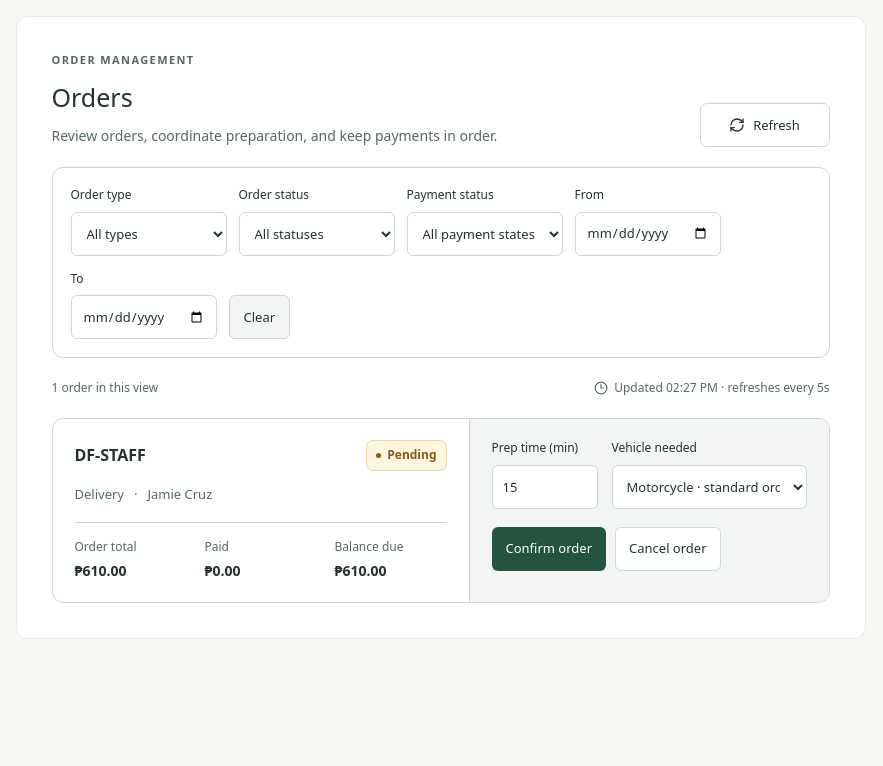
Test case: rejects invalid preparation times and sends valid preparation choices with a status update
This screenshot has width=883, height=766.
Replace the text in the number field named "Prep time for DF-STAFF" with "0" at (544, 487), box [492,465,598,509]
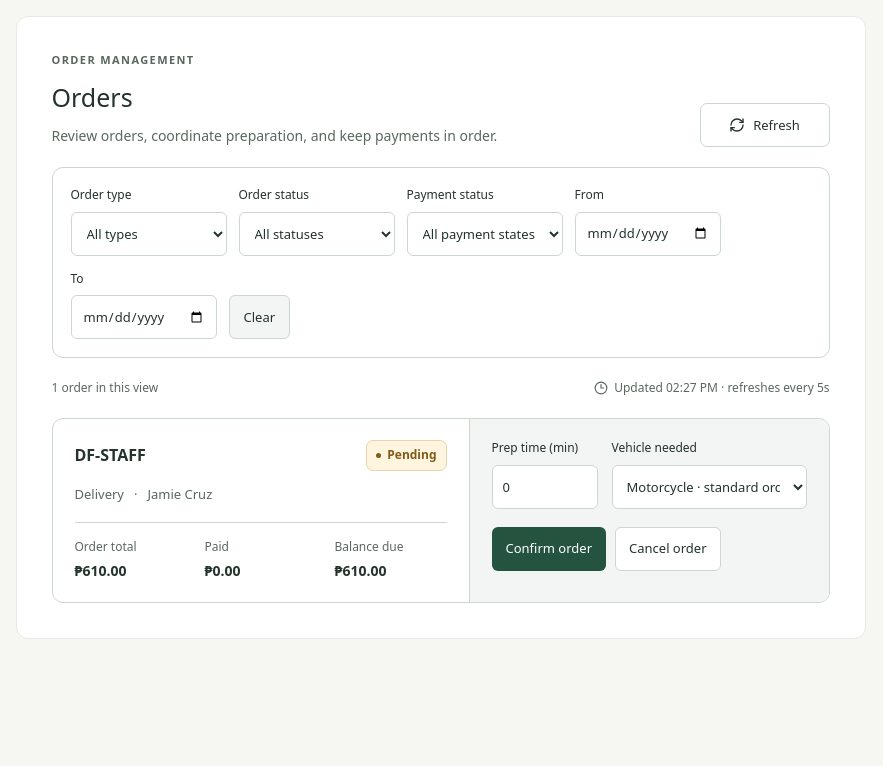
Click the button "Confirm order" at (549, 549), box [492,527,606,571]
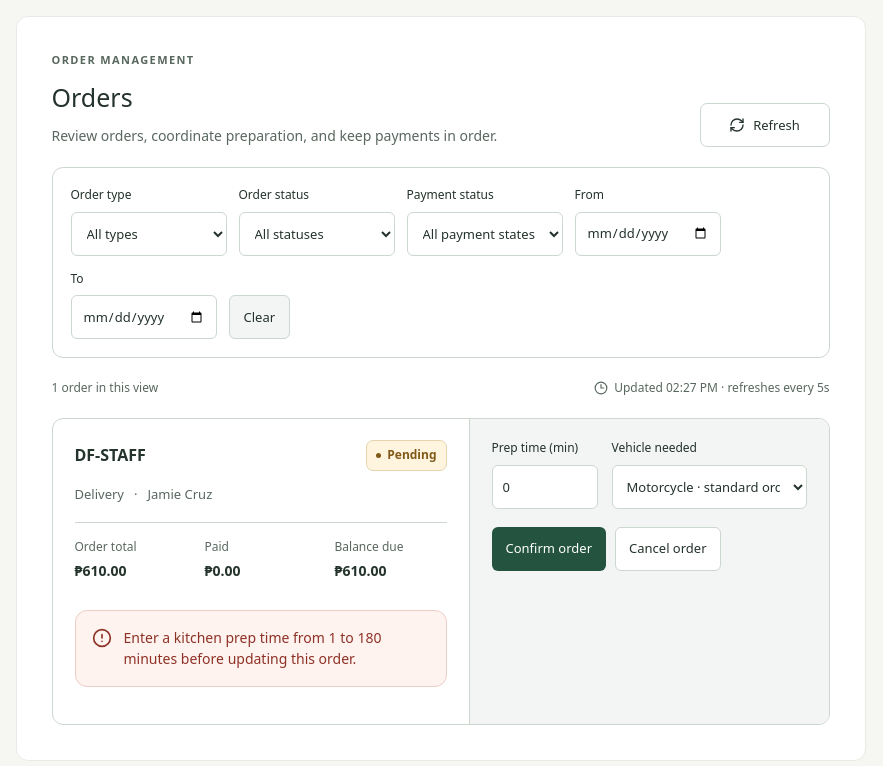
Result: the text "Enter a kitchen prep time from 1 to 180 minutes" is shown at [124,628,381,668]
Replace the text in the number field named "Prep time for DF-STAFF" with "20" at (544, 487), box [492,465,598,509]
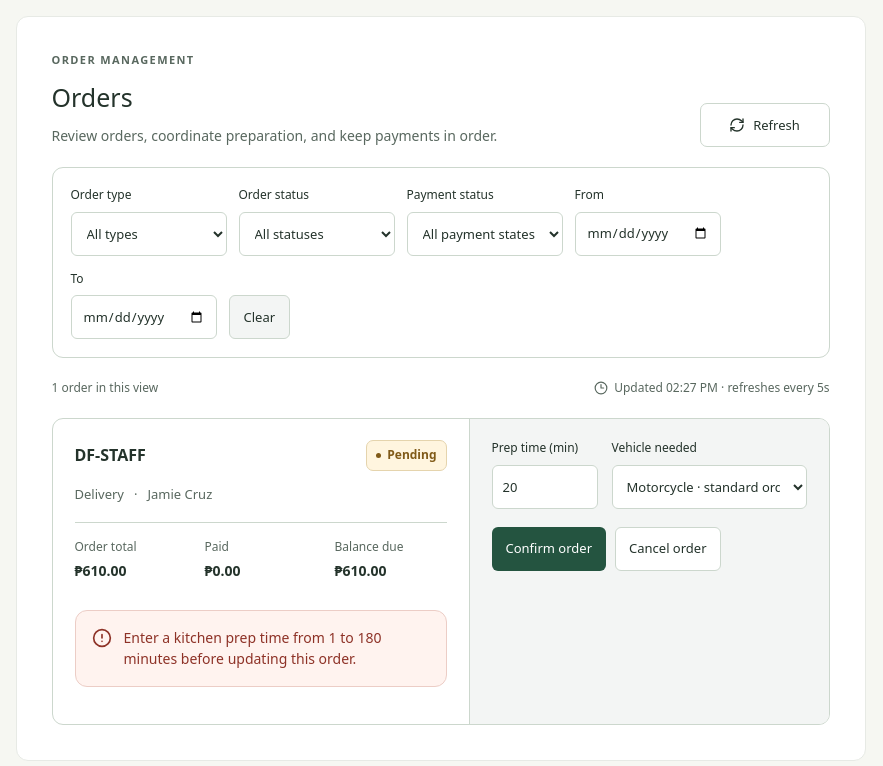
Select "Car · large / catering order" in the dropdown named "Vehicle needed for DF-STAFF" at (709, 487), box [612,465,806,509]
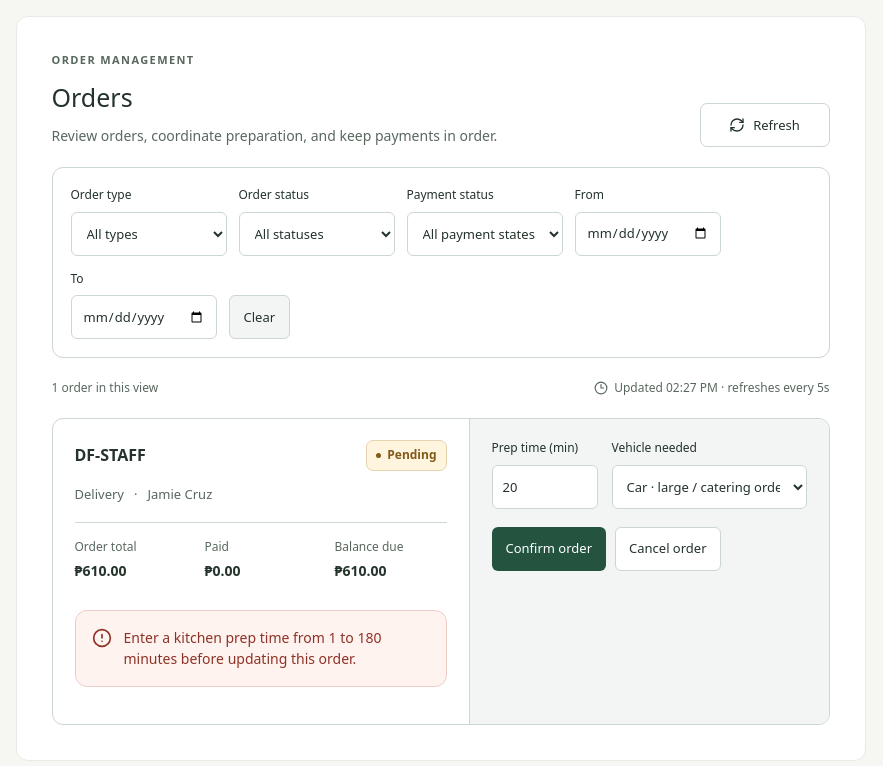
Click the button "Confirm order" at (549, 549), box [492,527,606,571]
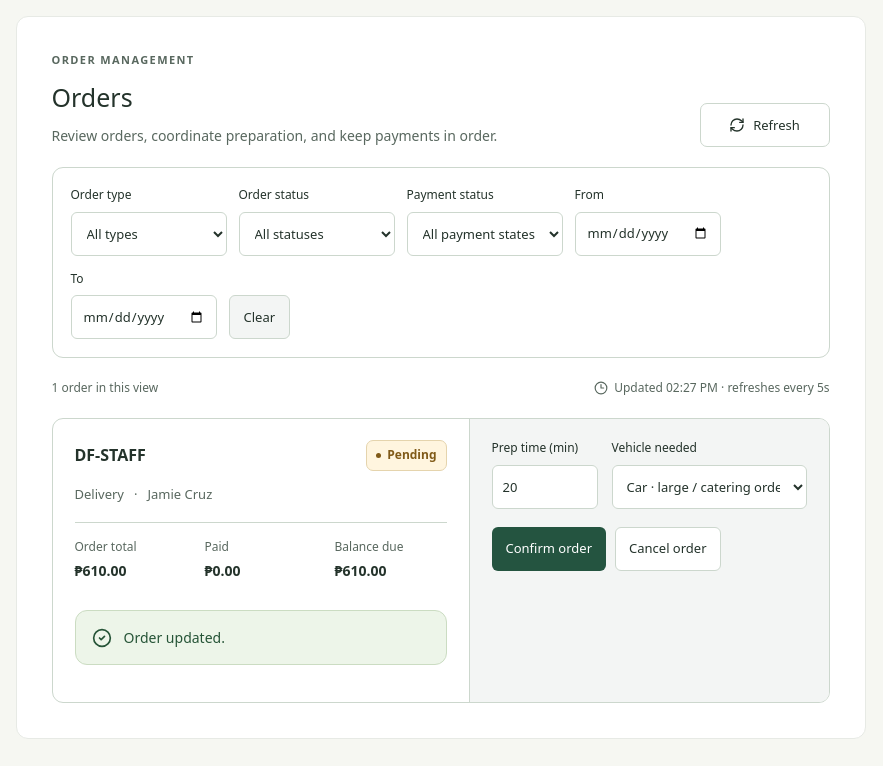
Result: the text "Order updated." is shown at [124,628,225,647]
